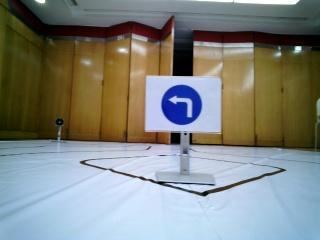left: (141, 77, 226, 137)
